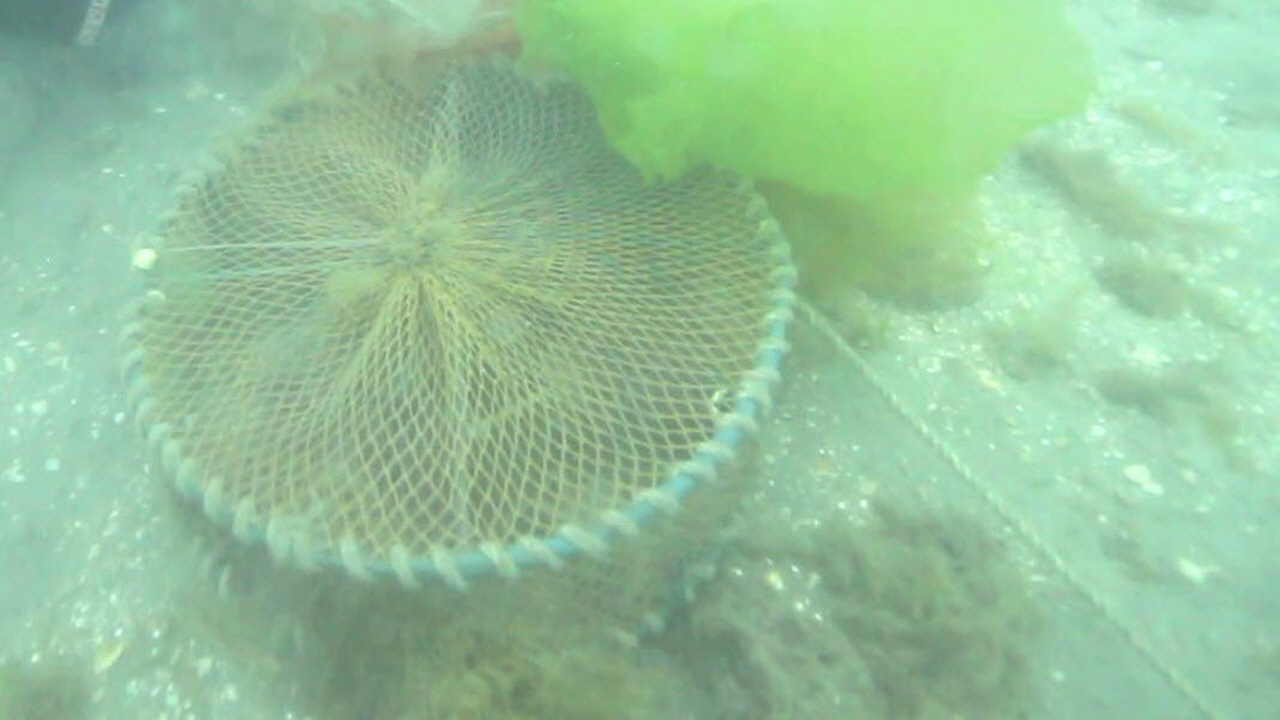circular fish trap: (123, 45, 798, 638)
rope: (798, 290, 1228, 720)
